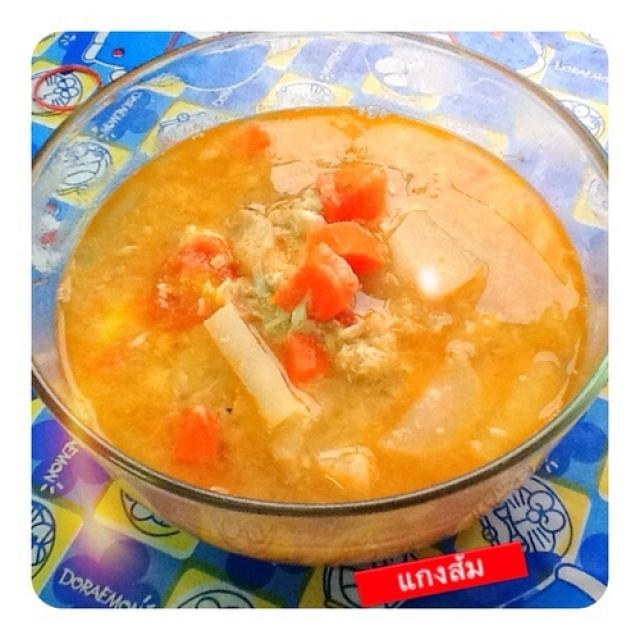汤锅炖物: (39, 40, 606, 554)
